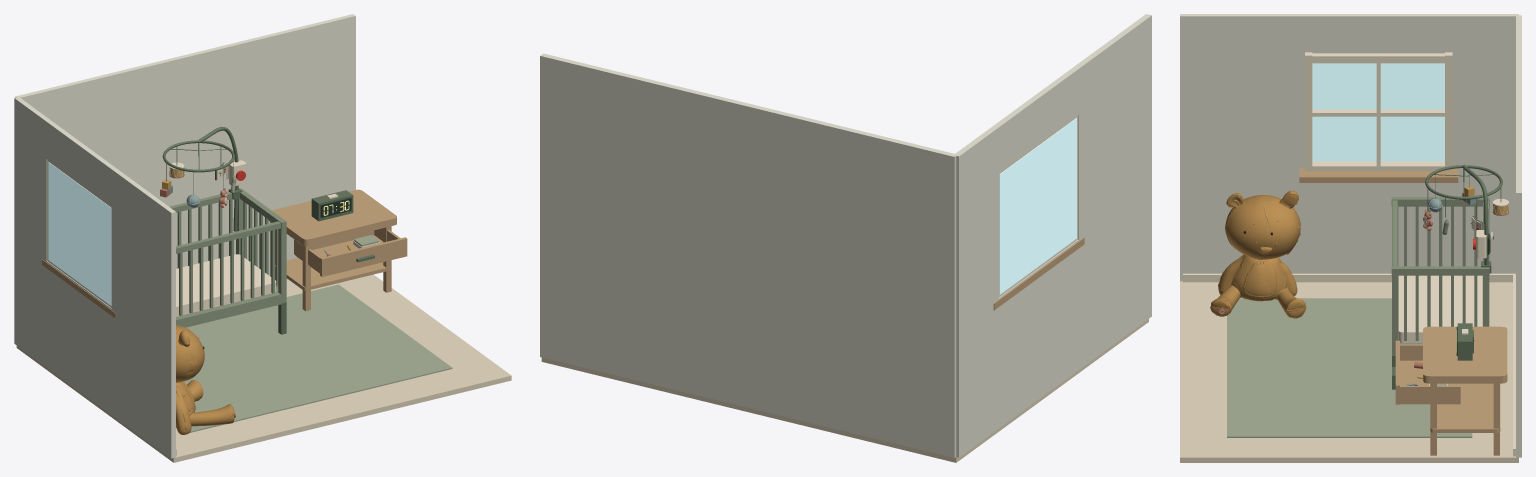
File: nursery-room.glb
3 views of the same model, side by side, from view 1: azimuth 30°, elevation 25°; view 2: azimuth 150°, elevation 25°; view 3: azimuth 270°, elevation 25° (orthographic). The views are drawn at different scales.
Visible parts, largest first — view 1: Back_wall, Rug, Left_wall_bottom, Floor, Left_wall_top, Left_wall_front, Window_sky, Left_wall_back, Oak_tabletop, Teddy_imported_STL, Mattress, Drawer_front (+7 smaller); view 2: Back_wall, Left_wall_bottom, Left_wall_top, Window_sky, Left_wall_front, Left_wall_back, Floor, Window_sill; view 3: Rug, Left_wall_bottom, Floor, Left_wall_top, Left_wall_front, Window_sky, Teddy_imported_STL, Left_wall_back, Oak_tabletop, Mattress, Window_horizontal_frame (×2), Back_wall (+17 smaller).
Boxes of the visible parts, x1,y1,x2,y2 form: Back_wall: (15,14,355,275); Rug: (183,284,452,432); Left_wall_bottom: (14,238,175,458); Floor: (16,274,511,462); Left_wall_top: (14,97,175,250); Left_wall_front: (111,207,175,352); Window_sky: (48,162,111,305); Left_wall_back: (14,135,47,260); Oak_tabletop: (268,189,396,246); Teddy_imported_STL: (176,325,234,434); Mattress: (176,254,276,316); Drawer_front: (320,237,407,276); Back_wall: (540,53,957,457); Left_wall_bottom: (956,186,1151,457); Left_wall_top: (954,14,1151,201); Window_sky: (999,118,1076,294); Left_wall_front: (1078,61,1151,239); Left_wall_back: (956,173,998,327); Floor: (541,319,1148,462); Window_sill: (993,237,1084,310); Rug: (1227,298,1472,437); Left_wall_bottom: (1180,166,1515,281); Floor: (1180,281,1518,462); Left_wall_top: (1180,14,1518,56); Left_wall_front: (1180,56,1304,166); Window_sky: (1312,63,1444,161); Teddy_imported_STL: (1210,190,1306,318); Left_wall_back: (1452,56,1515,166); Oak_tabletop: (1423,326,1507,383); Mattress: (1398,275,1482,342); Window_horizontal_frame (×2): (1305,53,1452,171); Back_wall: (1516,15,1521,457).
Size of the model in its own units: 3.63 by 2.55 by 2.93.
